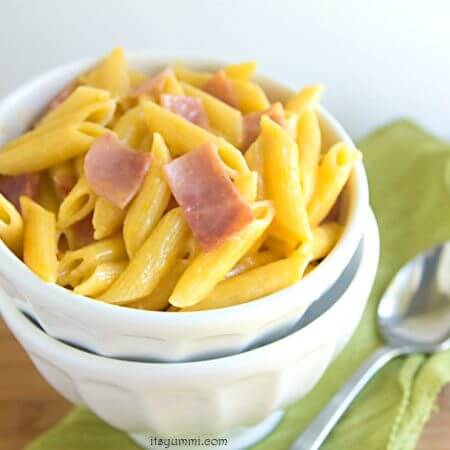macncheese: (1, 46, 353, 305)
